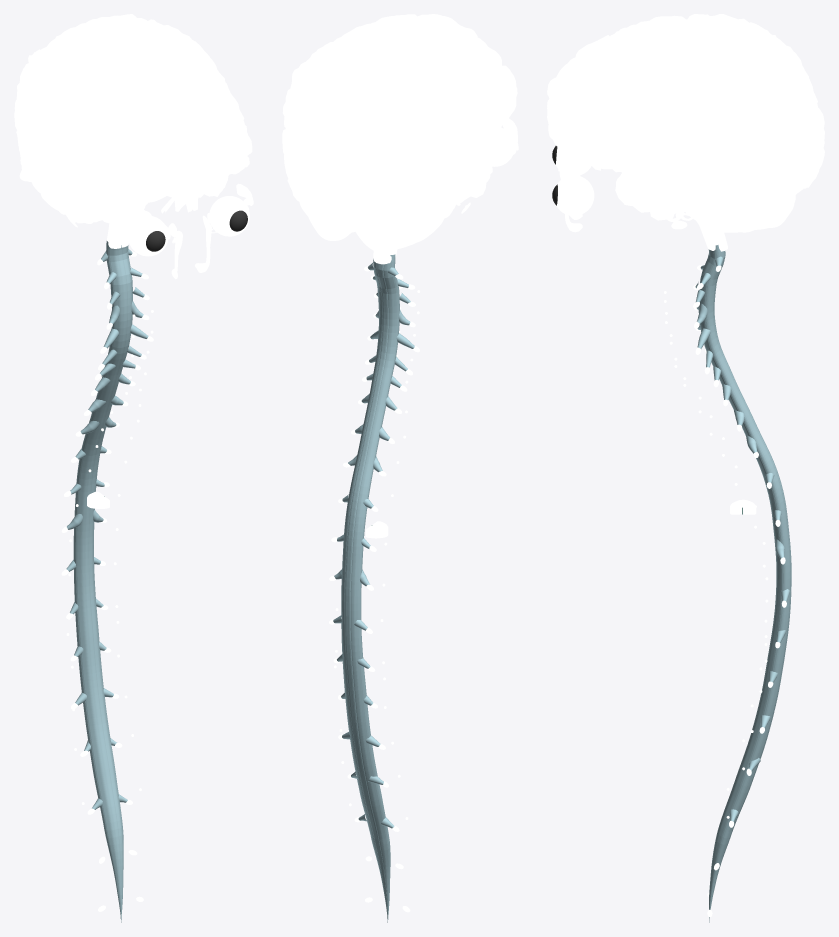
Rendered from nerves.glb.
3 views of the same model, side by side, from view 1: azimuth 30°, elevation 25°; view 2: azimuth 150°, elevation 25°; view 3: azimuth 270°, elevation 25° (orthographic).
Visible parts, largest first — view 1: Spinal dura, Middle frontal gyrus.r, Superior frontal gyrus.r, Precentral gyrus.r, Superior frontal gyrus.l, Falx cerebri, Middle frontal gyrus.l, Postcentral gyrus.r, Middle temporal gyrus.r, Superior temporal gyrus (Lateral part).r, Supramarginal gyrus.r, Orbital gyri (Frontomarginal gyrus and sulcus*).r (+13 smaller); view 2: Spinal dura, Angular gyrus.r, Falx cerebri, Superior parietal lobule.r, Postcentral gyrus.r, Supramarginal gyrus.r, Lateral occipital gyrus (Middle occipital gyrus*).r, Angular gyrus.l, Precentral gyrus.r, Middle temporal gyrus.r, Superior parietal lobule.l, Middle frontal gyrus.r (+20 smaller); view 3: Spinal dura, Middle frontal gyrus.l, Precentral gyrus.l, Middle temporal gyrus.l, Superior frontal gyrus.l, Falx cerebri, Postcentral gyrus.l, Superior temporal gyrus (Lateral part).l, Supramarginal gyrus.l, Angular gyrus.l, Inferior temporal gyrus.l, Superior parietal lobule.l (+13 smaller).
Boxes of the visible parts, x1,y1,x2,y2 form: Spinal dura: (66,241,148,922); Middle frontal gyrus.r: (81,59,177,184); Superior frontal gyrus.r: (108,37,197,168); Precentral gyrus.r: (56,34,112,151); Superior frontal gyrus.l: (138,31,225,167); Falx cerebri: (85,17,203,212); Middle frontal gyrus.l: (173,38,252,154); Postcentral gyrus.r: (38,27,93,134); Middle temporal gyrus.r: (14,111,96,218); Superior temporal gyrus (Lateral part).r: (20,118,107,206); Supramarginal gyrus.r: (14,56,51,132); Orbital gyri (Frontomarginal gyrus and sulcus*).r: (127,164,190,193); Spinal dura: (333,254,414,922); Angular gyrus.r: (365,95,443,165); Falx cerebri: (329,14,457,229); Superior parietal lobule.r: (348,68,418,139); Postcentral gyrus.r: (396,53,488,122); Supramarginal gyrus.r: (417,92,485,159); Lateral occipital gyrus (Middle occipital gyrus*).r: (365,157,416,217); Angular gyrus.l: (284,67,331,143); Precentral gyrus.r: (405,37,499,120); Middle temporal gyrus.r: (413,153,494,197); Superior parietal lobule.l: (313,57,352,131); Middle frontal gyrus.r: (437,36,517,96); Spinal dura: (695,245,791,922); Middle frontal gyrus.l: (551,56,690,151); Precentral gyrus.l: (638,33,718,149); Middle temporal gyrus.l: (630,141,784,207); Superior frontal gyrus.l: (547,30,695,111); Falx cerebri: (552,20,820,170); Postcentral gyrus.l: (663,38,740,141); Superior temporal gyrus (Lateral part).l: (619,145,744,192); Supramarginal gyrus.l: (688,83,763,154); Angular gyrus.l: (748,82,812,154); Inferior temporal gyrus.l: (643,168,780,220); Superior parietal lobule.l: (739,44,806,95).
Size of the model in its own units: 0.1378 by 0.6462 by 0.1807.
